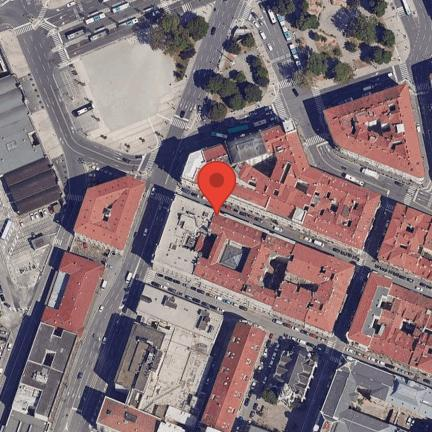area_open: (51, 32, 186, 156), (0, 205, 76, 319), (2, 1, 88, 69), (57, 139, 127, 199), (353, 394, 432, 432), (272, 81, 326, 120)
built: (322, 84, 426, 181), (198, 321, 272, 432), (313, 353, 409, 432), (301, 171, 386, 253), (147, 329, 215, 429), (39, 252, 107, 339), (116, 314, 174, 416), (75, 172, 149, 251), (153, 196, 219, 277), (136, 284, 228, 341), (370, 284, 430, 366), (0, 74, 45, 177), (240, 234, 297, 309), (273, 278, 344, 333), (265, 339, 325, 404), (348, 271, 397, 350), (287, 244, 356, 299), (3, 157, 65, 218), (377, 202, 430, 272), (267, 165, 326, 226), (11, 361, 65, 422), (198, 233, 257, 278), (28, 324, 77, 374), (237, 157, 293, 198), (203, 175, 269, 209), (270, 119, 307, 178), (191, 259, 249, 296), (95, 399, 160, 432), (226, 127, 280, 166), (208, 213, 262, 252), (388, 376, 432, 420), (411, 305, 432, 378), (2, 410, 51, 432), (202, 141, 233, 173), (182, 150, 208, 185), (154, 420, 186, 432), (420, 225, 430, 261), (417, 257, 432, 280), (248, 423, 278, 432)
vegetation_low: (278, 0, 411, 91), (203, 20, 269, 123), (140, 0, 217, 88)
